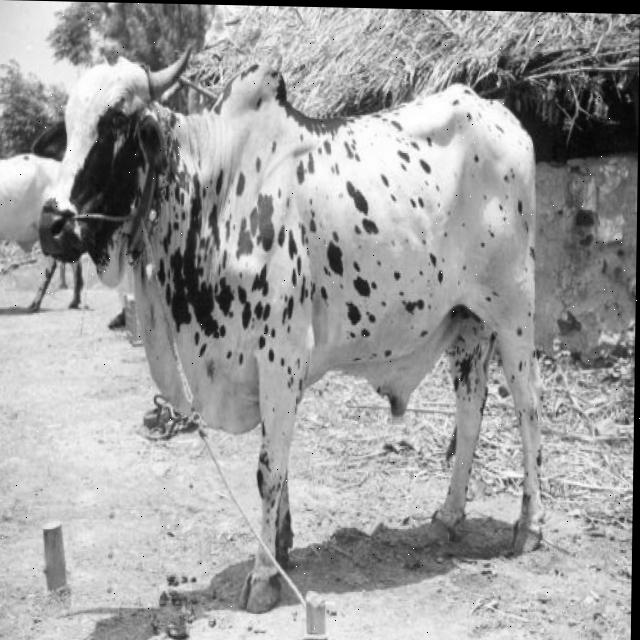Cow: (29, 43, 552, 621)
